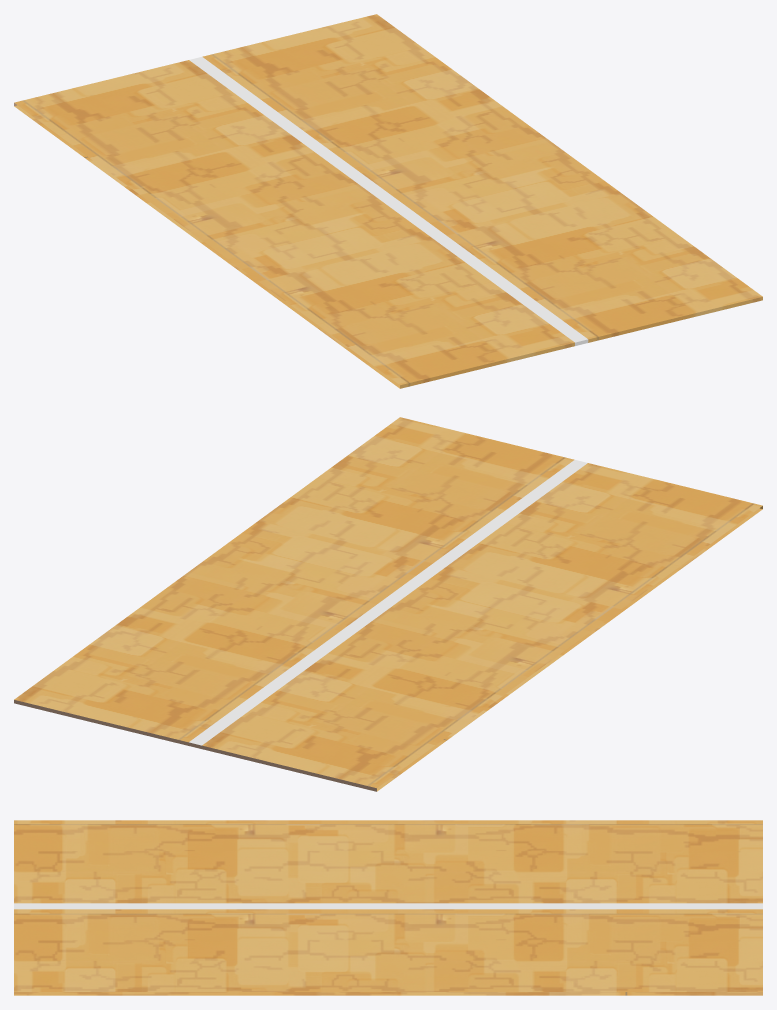
The picture shows the model from 3 angles, top to bottom: view 1: azimuth 30°, elevation 25°; view 2: azimuth 150°, elevation 25°; view 3: azimuth 270°, elevation 25°; orthographic projection. The views are drawn at different scales.
Parts seen in each view (by area): view 1: Box022; view 2: Box022; view 3: Box022.
Part boxes in pixels (x1=…): Box022: x1=14, y1=14, x2=762, y2=388; Box022: x1=14, y1=417, x2=762, y2=791; Box022: x1=14, y1=820, x2=762, y2=995.
Size of the model in its own units: 0.0553 by 0.000523 by 0.1019.
Materials: 3 (1 with a texture image).
